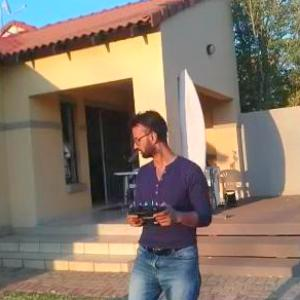follow: (124, 110, 213, 299)
